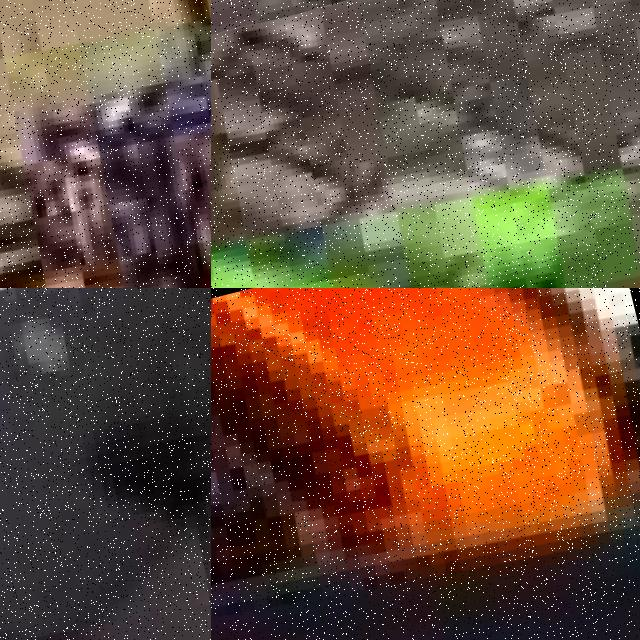0: (211, 0, 640, 288), (0, 0, 211, 288)
drone: (211, 288, 640, 640), (0, 288, 211, 640)
